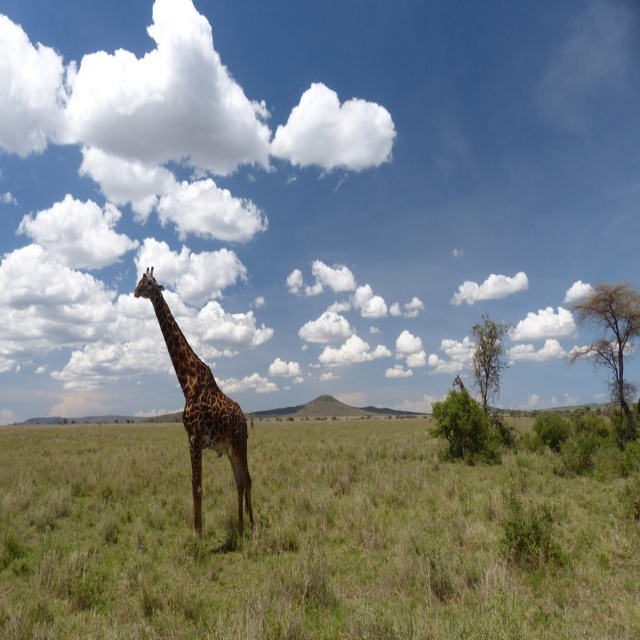Giraffe: (128, 272, 252, 541)
